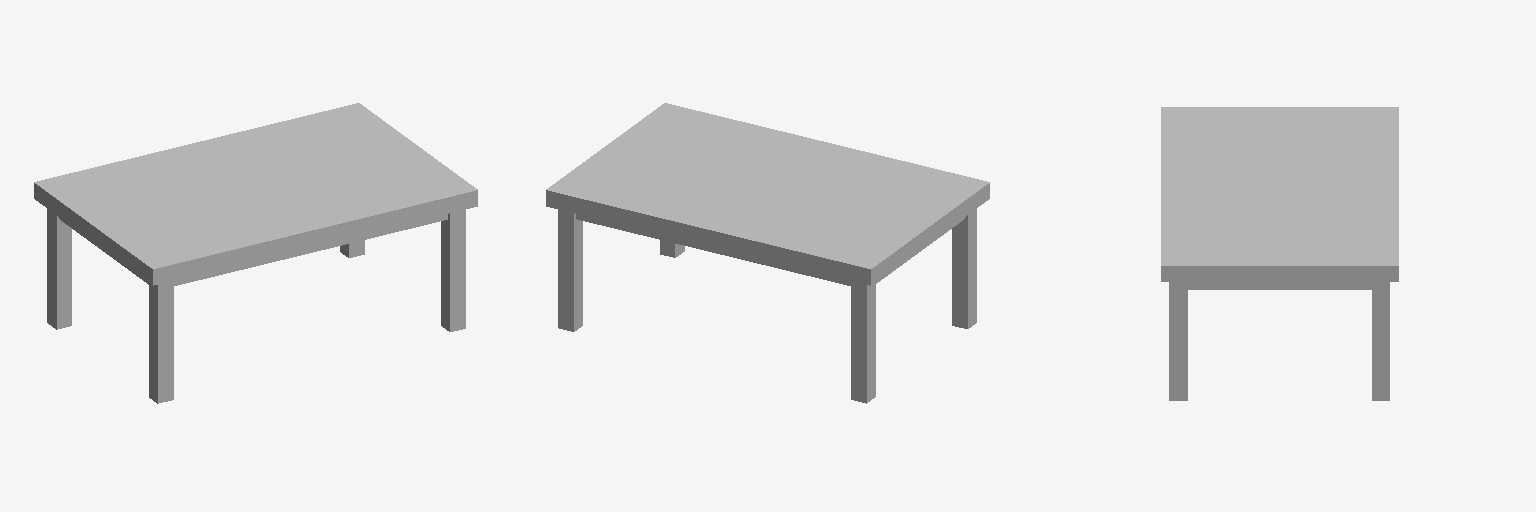
Rendered from Mesa.obj.
The picture shows the model from 3 angles: view 1: azimuth 30°, elevation 25°; view 2: azimuth 150°, elevation 25°; view 3: azimuth 270°, elevation 25°; orthographic projection.
Parts seen in each view (by area): view 1: Cube.199; view 2: Cube.199; view 3: Cube.199.
Boxes of the visible parts, x1,y1,x2,y2 form: Cube.199: [34, 103, 477, 403]; Cube.199: [546, 103, 989, 403]; Cube.199: [1161, 107, 1398, 400].
Bounding box in the file's own units: 3.58 × 1.47 × 2.27.